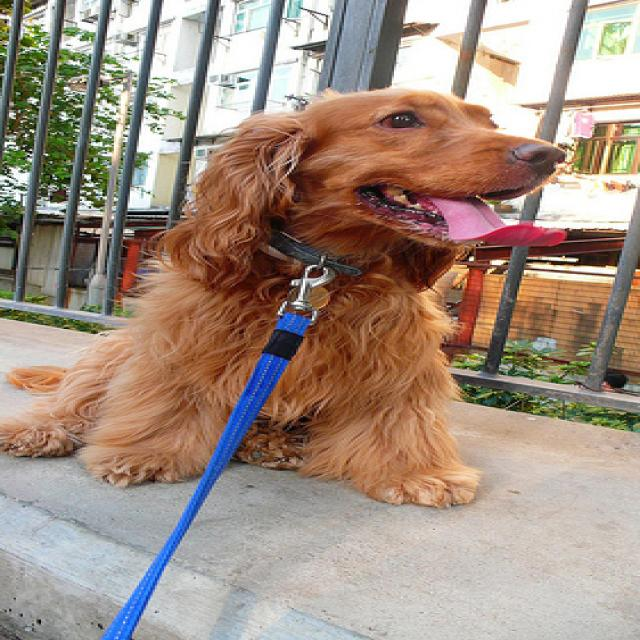dog-english_cocker_spaniel: (2, 82, 597, 509)
